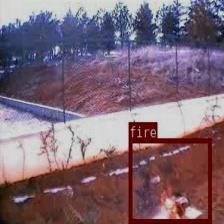fire: (128, 138, 211, 222)
